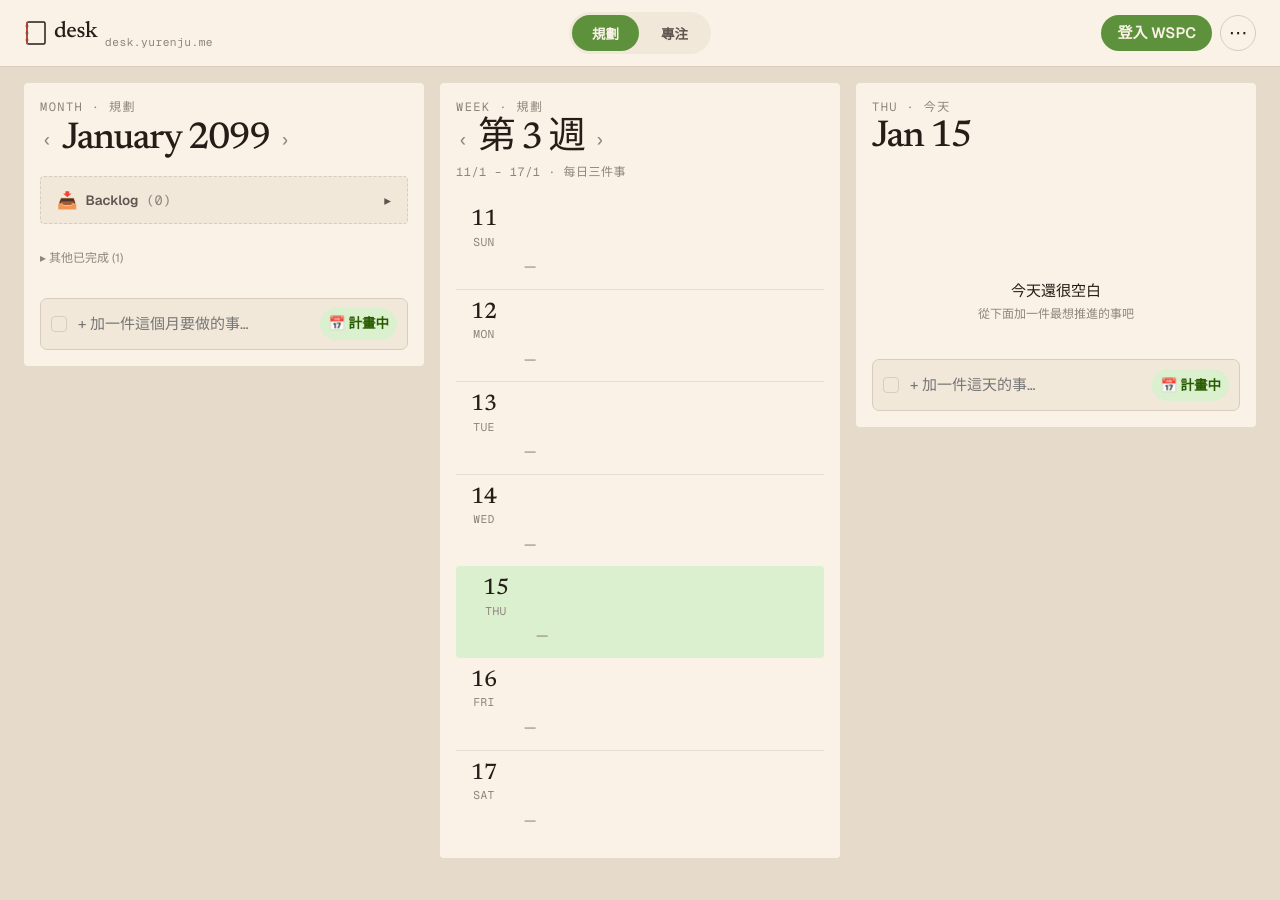
puts a completed forwarded task into 已完成, not a loose row or 已移走
Expected: the text "順延但做完" is not shown
Click the button "▸ 其他已完成 (1)".
click(82, 257)  # box [40,240,123,274]
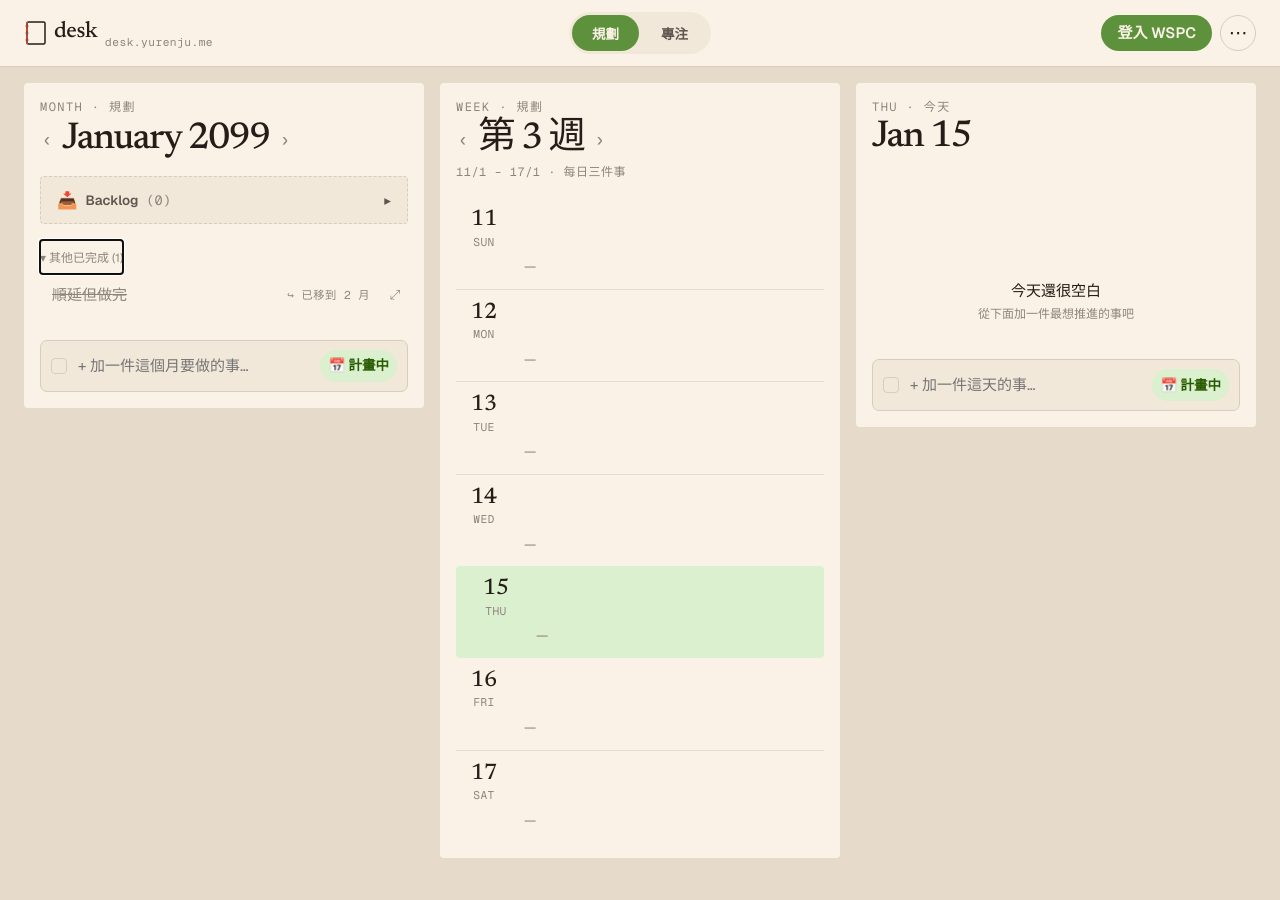
Expected: the text "順延但做完" is shown, [52,285,127,304]
